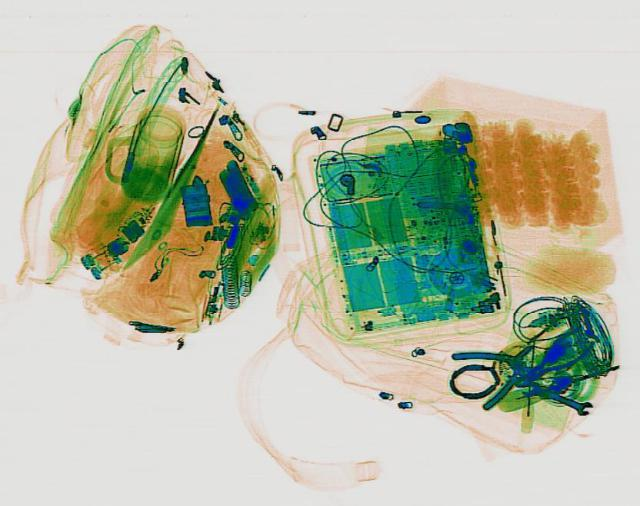Pliers: (502, 325, 600, 392)
Wrench: (528, 379, 596, 414)
